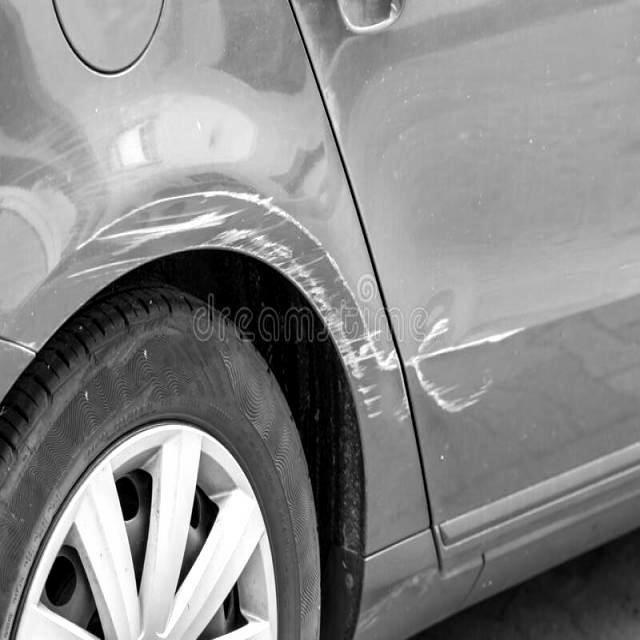doorouter-dent: (374, 6, 634, 592)
quaterpanel-dent: (0, 0, 316, 488), (136, 219, 373, 595)
